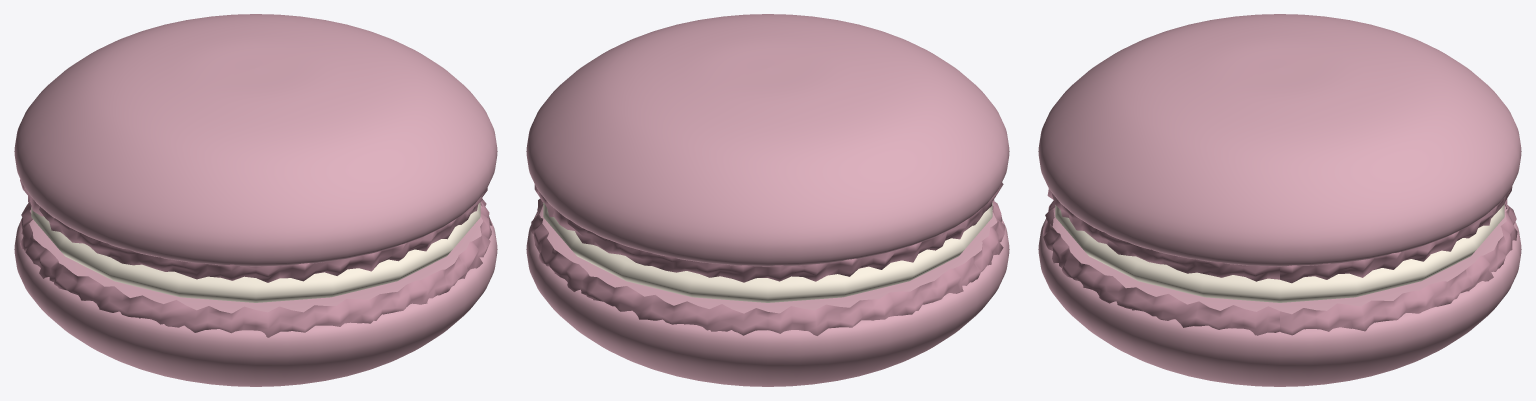
The model's file is macaron.glb.
3 views of the same model, side by side, from view 1: azimuth 30°, elevation 25°; view 2: azimuth 150°, elevation 25°; view 3: azimuth 270°, elevation 25° (orthographic).
Parts seen in each view (by area): view 1: Macaron; view 2: Macaron; view 3: Macaron.
Boxes of the visible parts, box(x1,y1,x2,y2) form: Macaron: box(14, 14, 497, 386); Macaron: box(526, 14, 1009, 386); Macaron: box(1038, 14, 1521, 386).
Bounding box in the file's own units: 0.2414 × 0.146 × 0.2414.
